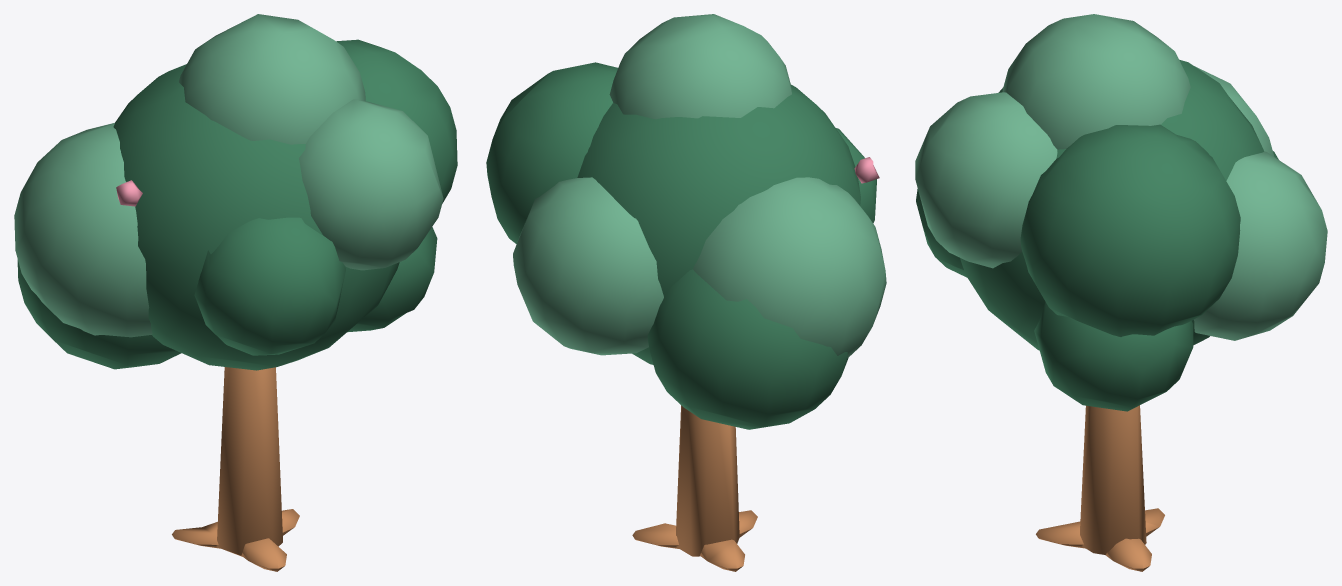
The model's file is tree_small.glb.
3 views of the same model, side by side, from view 1: azimuth 30°, elevation 25°; view 2: azimuth 150°, elevation 25°; view 3: azimuth 270°, elevation 25° (orthographic). The views are drawn at different scales.
Parts seen in each view (by area): view 1: tree_small; view 2: tree_small; view 3: tree_small.
Boxes of the visible parts, bbox=[...] form: tree_small: bbox=[14, 14, 457, 571]; tree_small: bbox=[486, 14, 886, 571]; tree_small: bbox=[915, 14, 1327, 571].
Size of the model in its own units: 2.84 by 3.61 by 2.53.
1 material, 1 textured.
